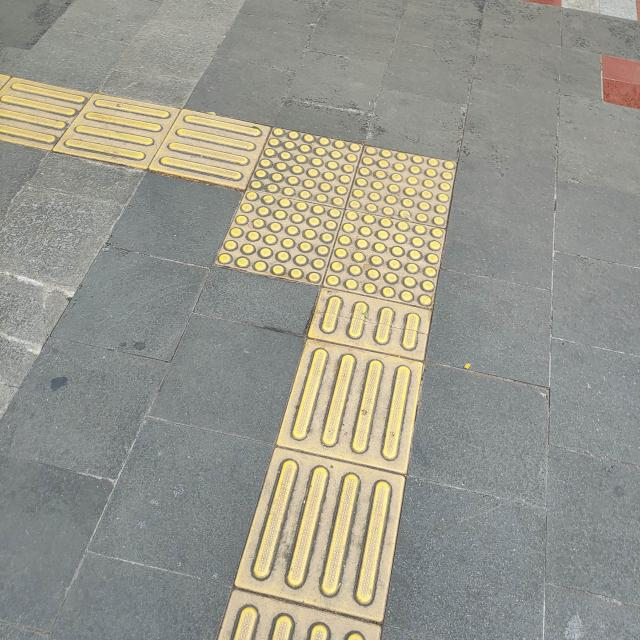kiri: (112, 71, 508, 344)
